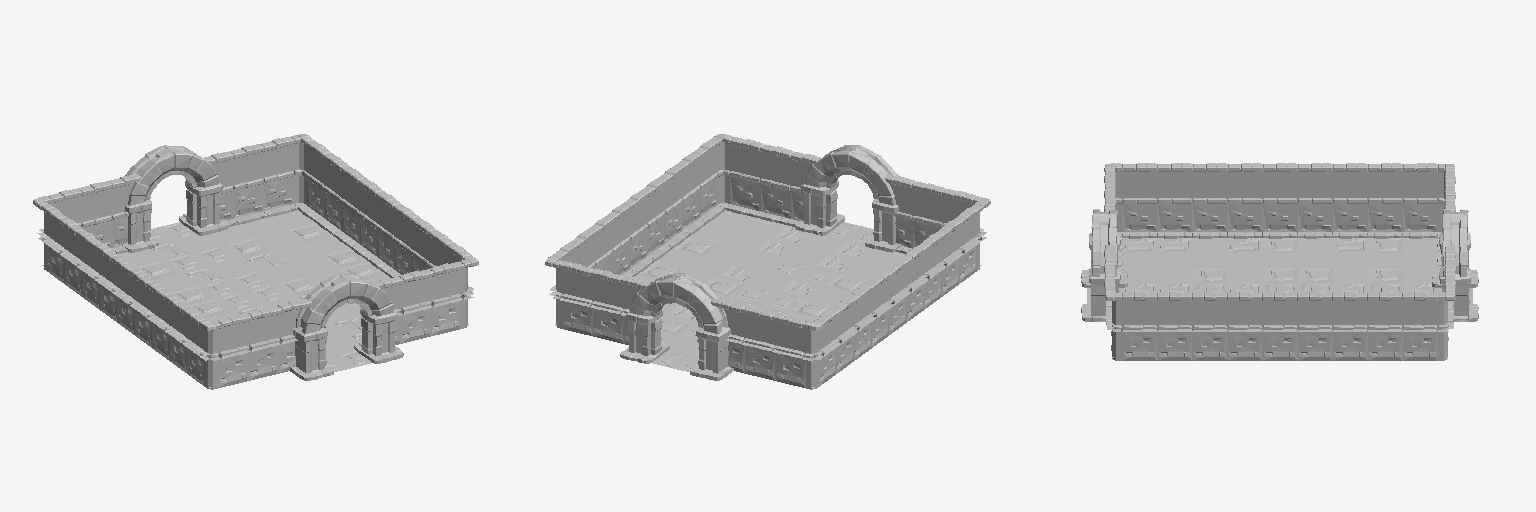
Rendered from ghost-train-room.obj.
The picture shows the model from 3 angles: view 1: azimuth 30°, elevation 25°; view 2: azimuth 150°, elevation 25°; view 3: azimuth 270°, elevation 25°; orthographic projection.
Parts seen in each view (by area): view 1: tile_02.034_Untitled.524; view 2: tile_02.034_Untitled.524; view 3: tile_02.034_Untitled.524.
Part boxes in pixels (bbox=[...]): tile_02.034_Untitled.524: bbox=[33, 134, 478, 389]; tile_02.034_Untitled.524: bbox=[545, 134, 990, 389]; tile_02.034_Untitled.524: bbox=[1081, 163, 1478, 360].
Size of the model in its own units: 9.04 by 2.66 by 11.35.